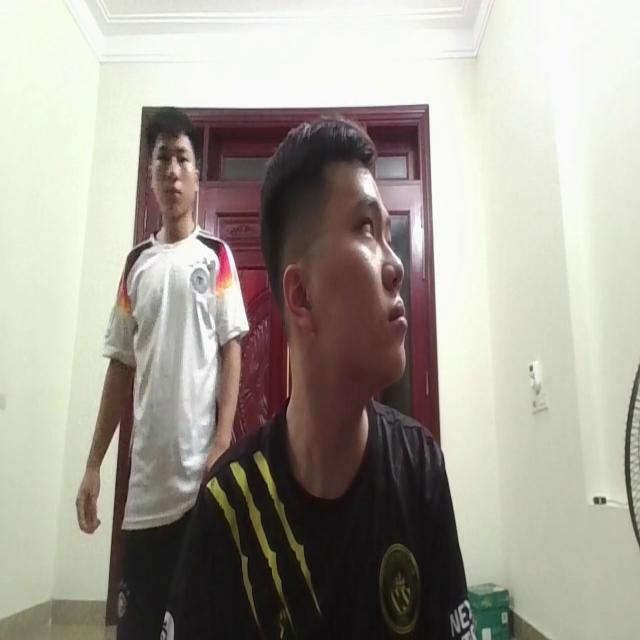extra_person: (84, 105, 244, 553)
student: (195, 106, 457, 640)
